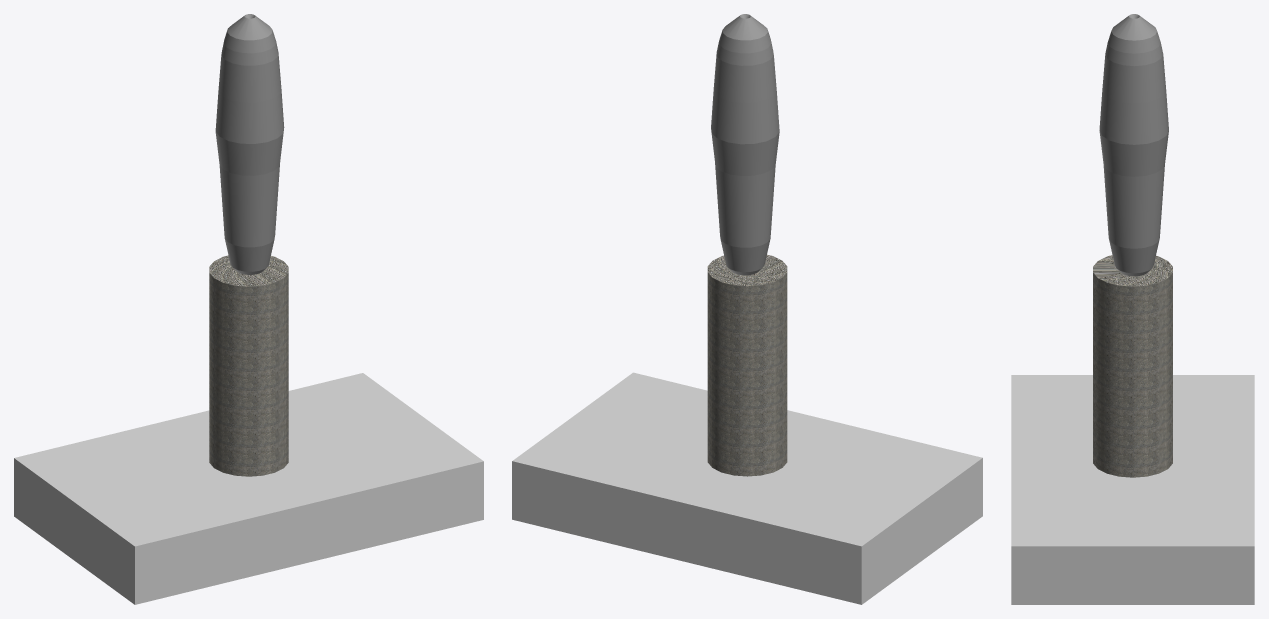
Rendered from savasta.FBX.
3 renders of one model, left to right at view 1: azimuth 30°, elevation 25°; view 2: azimuth 150°, elevation 25°; view 3: azimuth 270°, elevation 25°, orthographic.
Parts seen in each view (by area): view 1: Box001, Cylinder001, Line001; view 2: Box001, Cylinder001, Line001; view 3: Box001, Cylinder001, Line001.
Boxes of the visible parts, x1,y1,x2,y2 form: Box001: (14, 373, 483, 604); Cylinder001: (209, 255, 288, 476); Line001: (215, 14, 284, 274); Box001: (512, 372, 982, 604); Cylinder001: (707, 254, 787, 476); Line001: (711, 14, 779, 275); Box001: (1011, 375, 1254, 604); Cylinder001: (1093, 255, 1172, 477); Line001: (1099, 14, 1168, 276).
Size of the model in its own units: 50 by 68.57 by 30.
